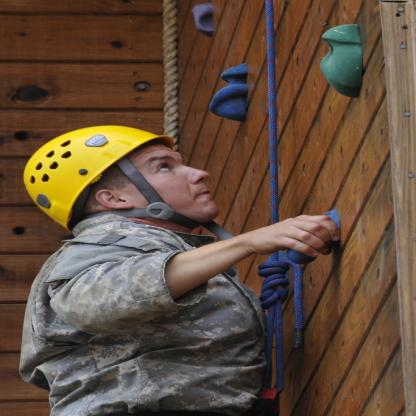Helmet: (30, 134, 220, 226)
